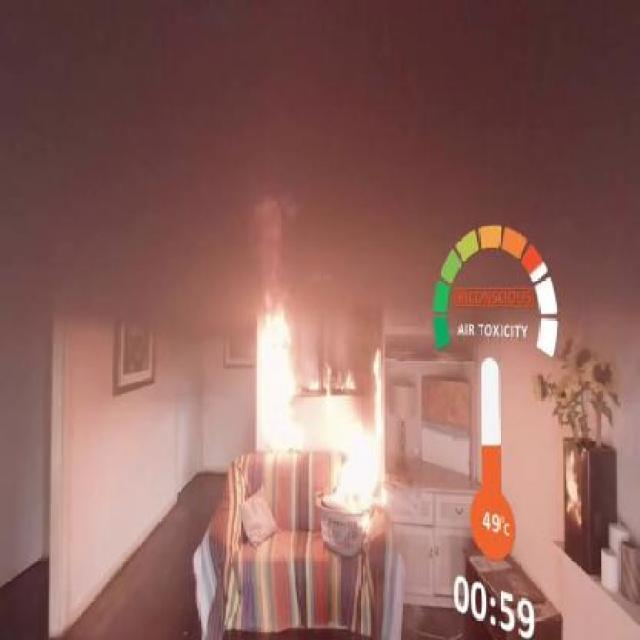fire: (252, 290, 394, 546)
smoke: (70, 22, 592, 248)
